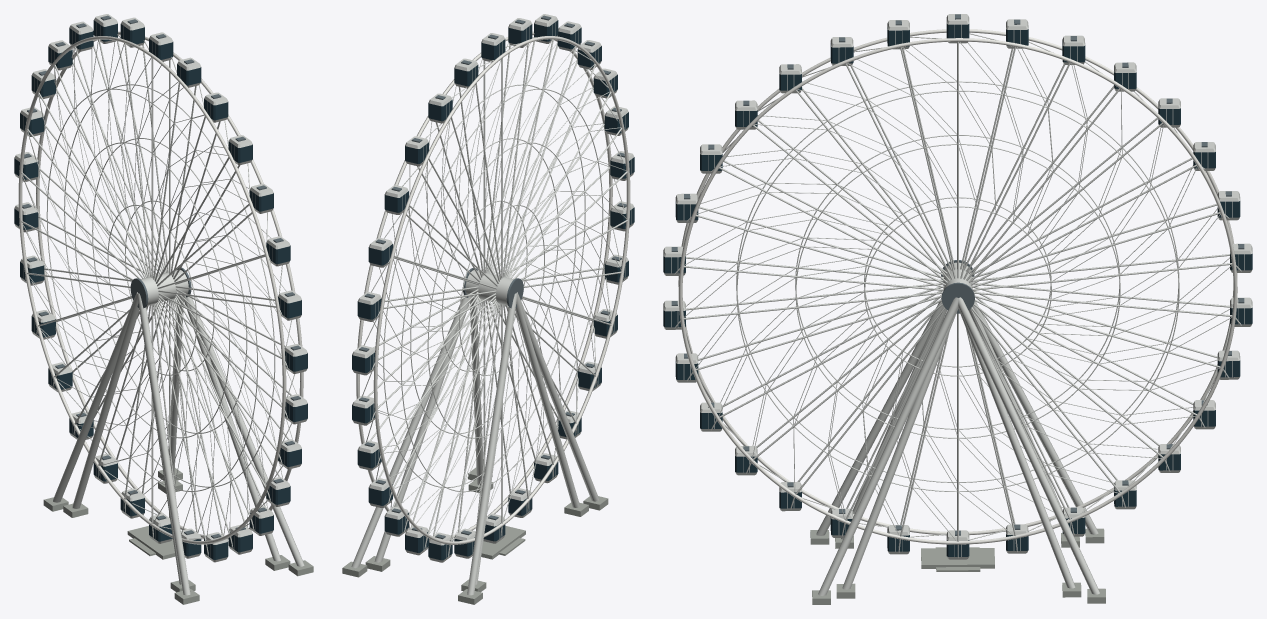
The model's file is the-wheel-icon-park-near.glb.
The picture shows the model from 3 angles, left to right: view 1: azimuth 30°, elevation 25°; view 2: azimuth 150°, elevation 25°; view 3: azimuth 270°, elevation 25°; orthographic projection. The views are drawn at different scales.
Parts seen in each view (by area): view 1: the-wheel-icon-park-0-structure, the-wheel-icon-park-0-glass, the-wheel-icon-park-0-glow, the-wheel-icon-park-0-light, the-wheel-icon-park-0-concrete, the-wheel-icon-park-0-hardware; view 2: the-wheel-icon-park-0-structure, the-wheel-icon-park-0-glass, the-wheel-icon-park-0-glow, the-wheel-icon-park-0-light, the-wheel-icon-park-0-concrete, the-wheel-icon-park-0-hardware; view 3: the-wheel-icon-park-0-structure, the-wheel-icon-park-0-glass, the-wheel-icon-park-0-light, the-wheel-icon-park-0-glow, the-wheel-icon-park-0-concrete, the-wheel-icon-park-0-hardware.
Part boxes in pixels (x1=…): the-wheel-icon-park-0-structure: x1=14, y1=14, x2=307, y2=595; the-wheel-icon-park-0-glass: x1=14, y1=20, x2=307, y2=559; the-wheel-icon-park-0-glow: x1=18, y1=36, x2=286, y2=544; the-wheel-icon-park-0-light: x1=36, y1=31, x2=303, y2=539; the-wheel-icon-park-0-concrete: x1=43, y1=468, x2=313, y2=604; the-wheel-icon-park-0-hardware: x1=22, y1=15, x2=300, y2=538; the-wheel-icon-park-0-structure: x1=351, y1=14, x2=634, y2=595; the-wheel-icon-park-0-glass: x1=352, y1=20, x2=634, y2=560; the-wheel-icon-park-0-glow: x1=373, y1=36, x2=630, y2=544; the-wheel-icon-park-0-light: x1=356, y1=31, x2=612, y2=539; the-wheel-icon-park-0-concrete: x1=342, y1=467, x2=608, y2=604; the-wheel-icon-park-0-hardware: x1=359, y1=15, x2=626, y2=539; the-wheel-icon-park-0-structure: x1=663, y1=14, x2=1252, y2=595; the-wheel-icon-park-0-glass: x1=663, y1=24, x2=1252, y2=556; the-wheel-icon-park-0-light: x1=678, y1=38, x2=1237, y2=544; the-wheel-icon-park-0-glow: x1=678, y1=29, x2=1237, y2=535; the-wheel-icon-park-0-concrete: x1=810, y1=528, x2=1105, y2=604; the-wheel-icon-park-0-hardware: x1=671, y1=14, x2=1244, y2=535.
Size of the model in its own units: 33.81 by 122 by 120.
